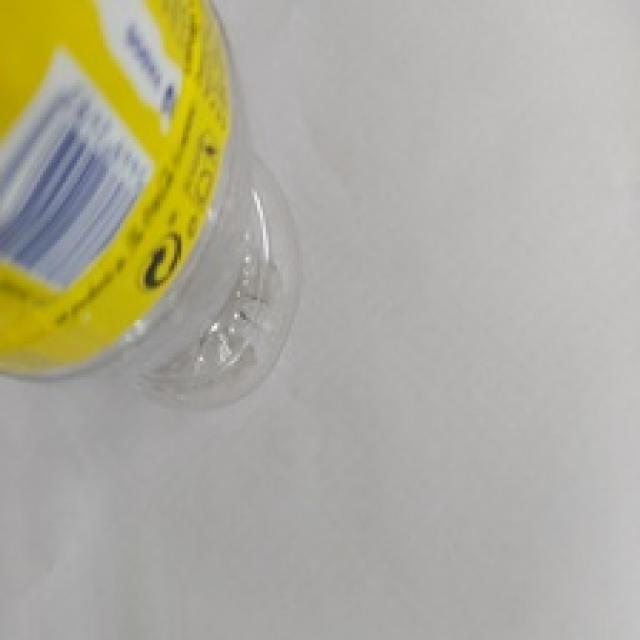Plastic: (0, 0, 311, 413)
